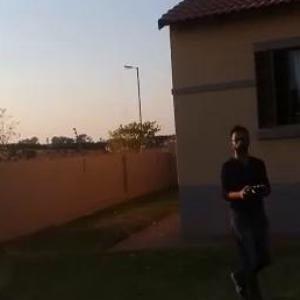follow: (208, 117, 286, 299)
